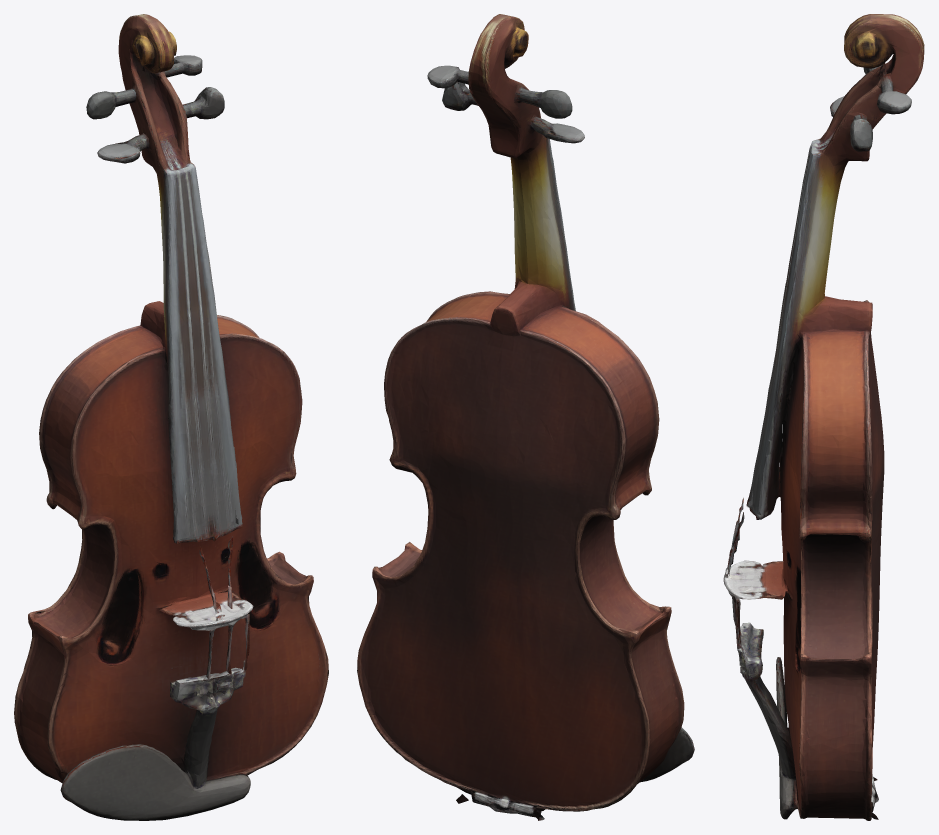
3 views of the same model, side by side, from view 1: azimuth 30°, elevation 25°; view 2: azimuth 150°, elevation 25°; view 3: azimuth 270°, elevation 25° (orthographic). The views are drawn at different scales.
Parts seen in each view (by area): view 1: world; view 2: world; view 3: world.
Boxes of the visible parts, left/top/right/bottom form: world: left=14, top=14, right=328, bottom=820; world: left=357, top=14, right=694, bottom=820; world: left=723, top=14, right=924, bottom=820.
Bounding box in the file's own units: 0.384 × 0.997 × 0.2318.
1 material, 1 textured.
